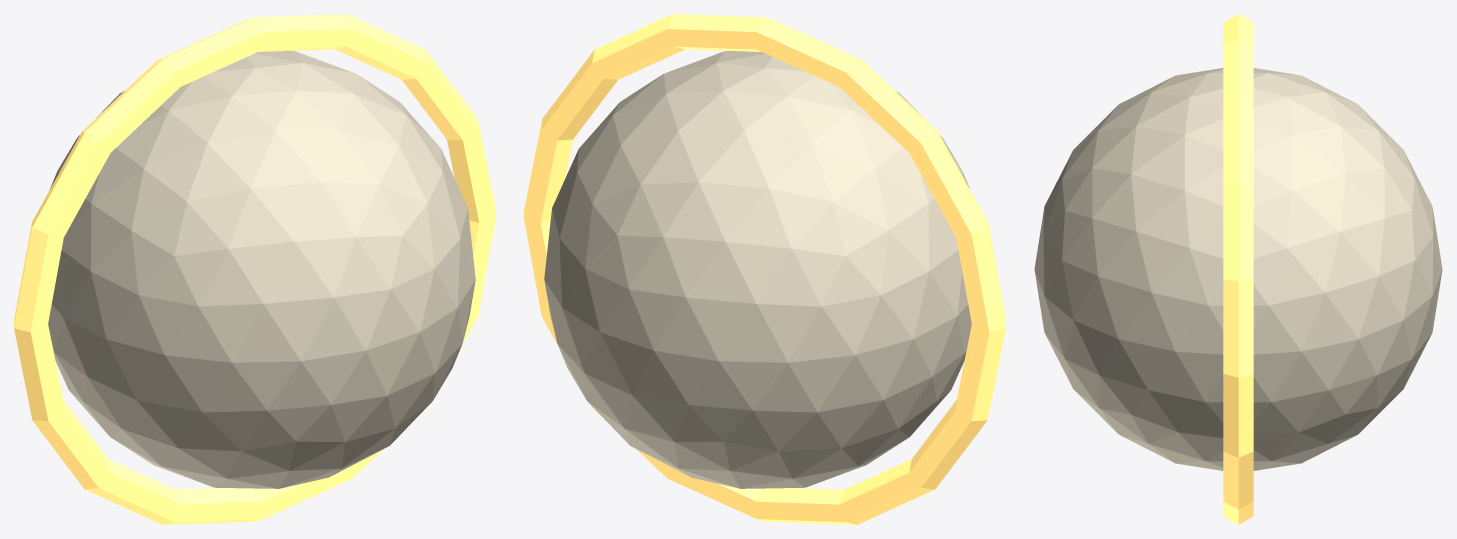
File: ember_pearl_target.glb
3 renders of one model, left to right at view 1: azimuth 30°, elevation 25°; view 2: azimuth 150°, elevation 25°; view 3: azimuth 270°, elevation 25°, orthographic. The views are drawn at different scales.
Visible parts, largest first — view 1: Pearl, PearlHalo; view 2: Pearl, PearlHalo; view 3: Pearl, PearlHalo.
Boxes of the visible parts, bbox=[...] form: Pearl: bbox=[48, 51, 475, 488]; PearlHalo: bbox=[14, 14, 495, 524]; Pearl: bbox=[544, 51, 971, 488]; PearlHalo: bbox=[524, 14, 1005, 524]; Pearl: bbox=[1034, 68, 1442, 470]; PearlHalo: bbox=[1223, 14, 1253, 524].
Size of the model in its own units: 3.76 by 3.76 by 3.
